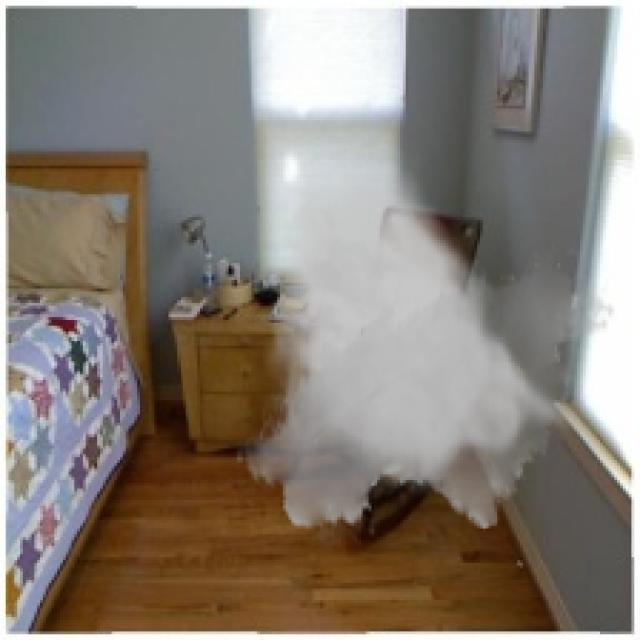smoke: (234, 149, 617, 540)
